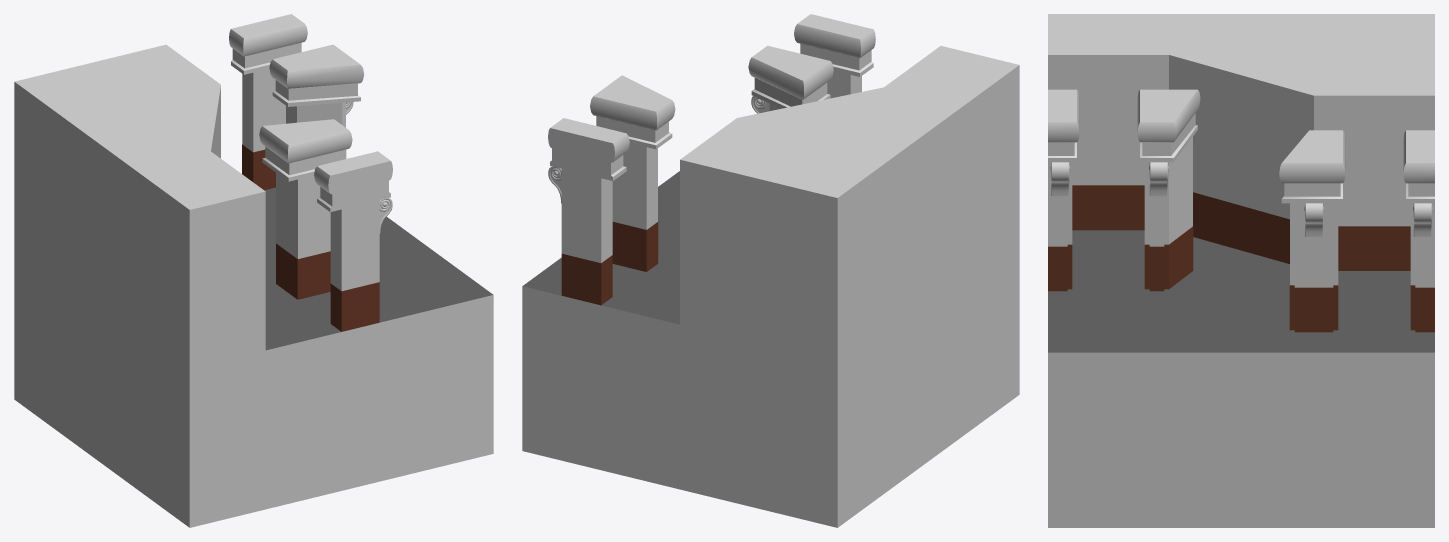
Rendered from House_Base_Straight_FB_Connector_1_var0.fbx.
3 views of the same model, side by side, from view 1: azimuth 30°, elevation 25°; view 2: azimuth 150°, elevation 25°; view 3: azimuth 270°, elevation 25° (orthographic). The views are drawn at different scales.
Parts seen in each view (by area): view 1: House_Base_Straight_FB_Connector_1_MESH; view 2: House_Base_Straight_FB_Connector_1_MESH; view 3: House_Base_Straight_FB_Connector_1_MESH.
Part boxes in pixels (x1,y1,x2,y2): House_Base_Straight_FB_Connector_1_MESH: (14, 14, 493, 527); House_Base_Straight_FB_Connector_1_MESH: (522, 14, 1019, 527); House_Base_Straight_FB_Connector_1_MESH: (1048, 14, 1434, 527).
Size of the model in its own units: 4 by 4 by 4.
